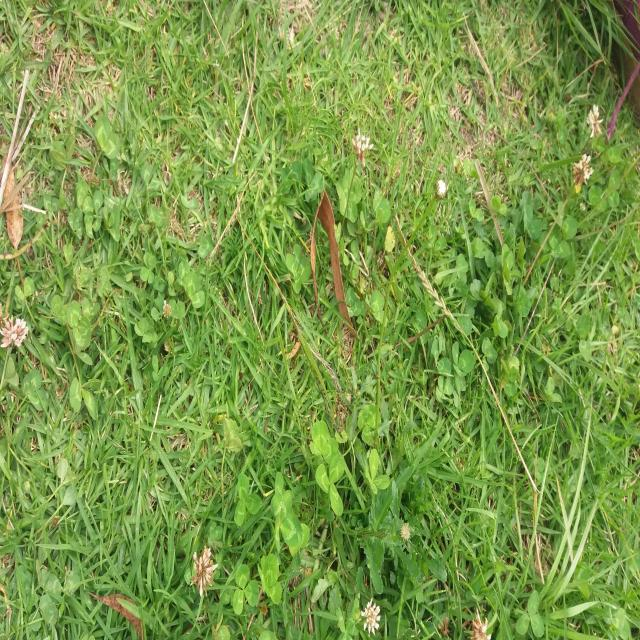Four Leaf Clover: (286, 244, 312, 293), (336, 175, 362, 223), (140, 252, 156, 283)
